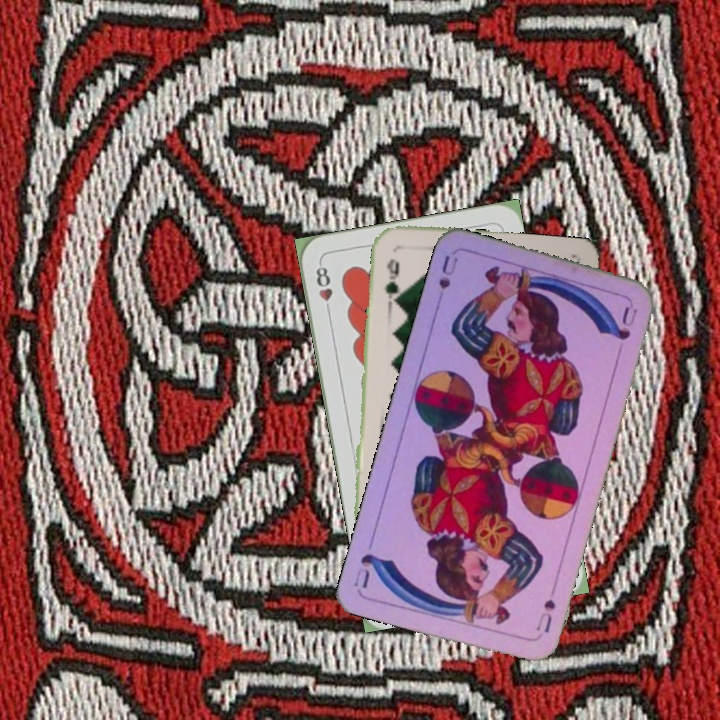G9: (380, 255, 402, 307)
H8: (312, 259, 335, 318)
SU: (532, 582, 559, 640), (434, 251, 461, 292)
